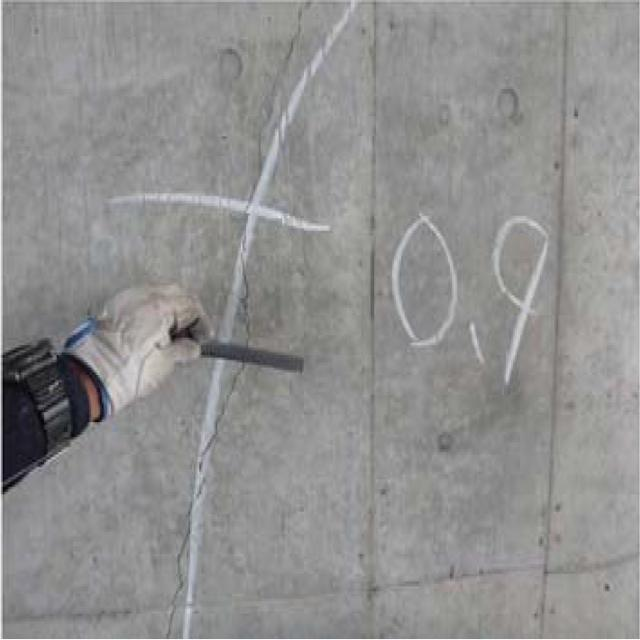crack: (164, 1, 279, 640)
